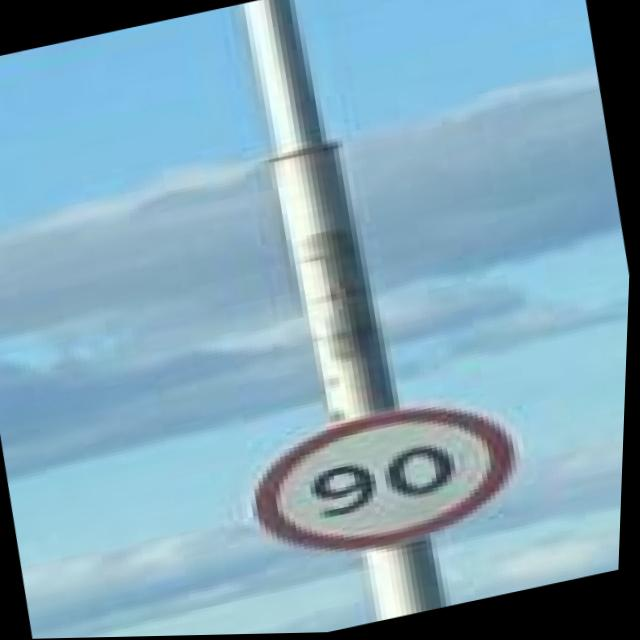Speed Limit -90-: (245, 387, 535, 573)
